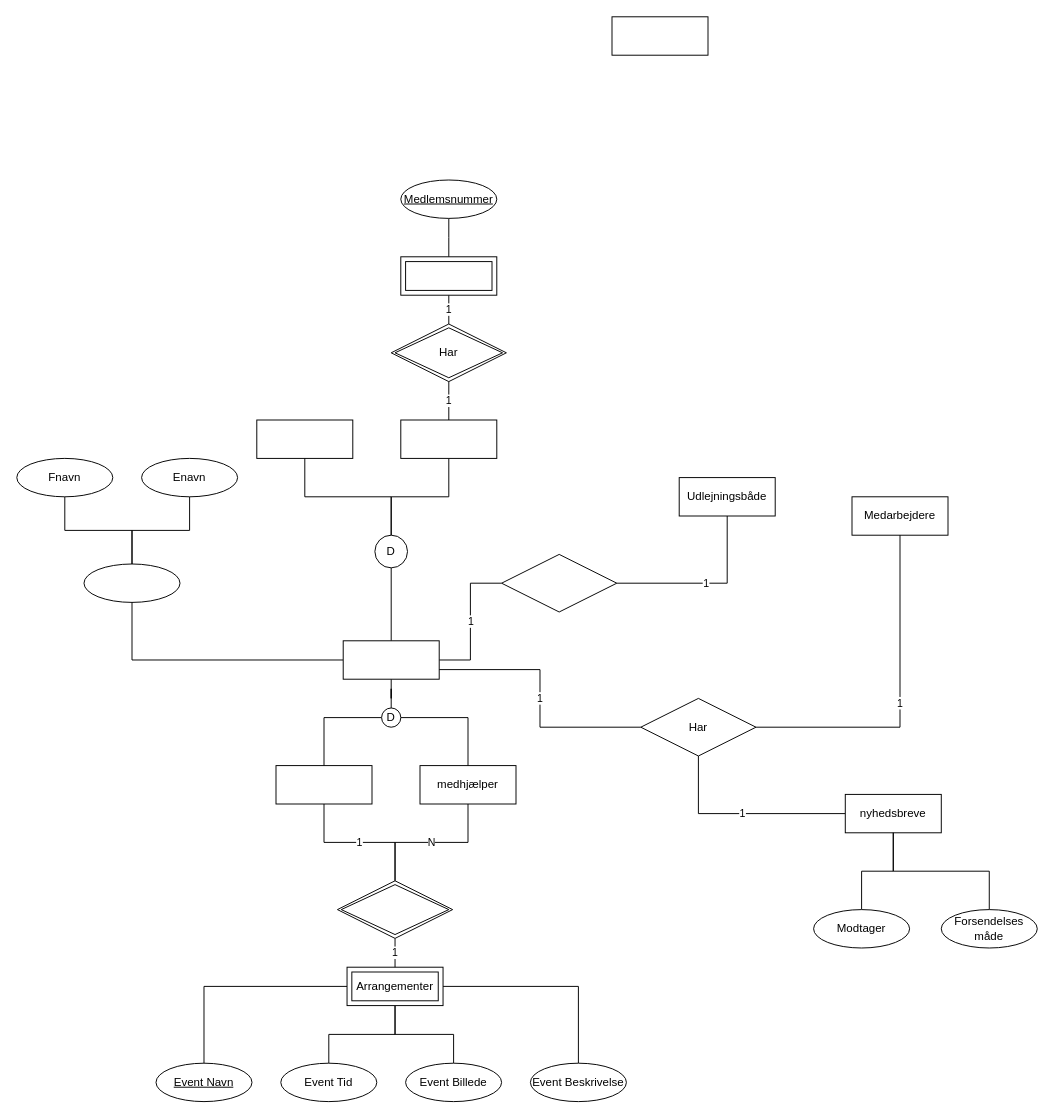
This 1054x1118 diagram has some shape labels left out. The shapes that lost their labels are listed below. From the top down, each one's box as (x1, y1, x2, y2) in pixels, then its label:
(611, 16, 708, 55): Bådpladser
(400, 256, 497, 295): Medlemskort
(256, 419, 353, 458): Kunder uden medlemsskab
(400, 419, 497, 458): Medlemmer
(83, 563, 180, 602): Navn
(501, 553, 617, 612): Kan leje
(342, 640, 439, 679): Kunder
(275, 765, 372, 804): Arrangør
(336, 880, 453, 938): Relationship
